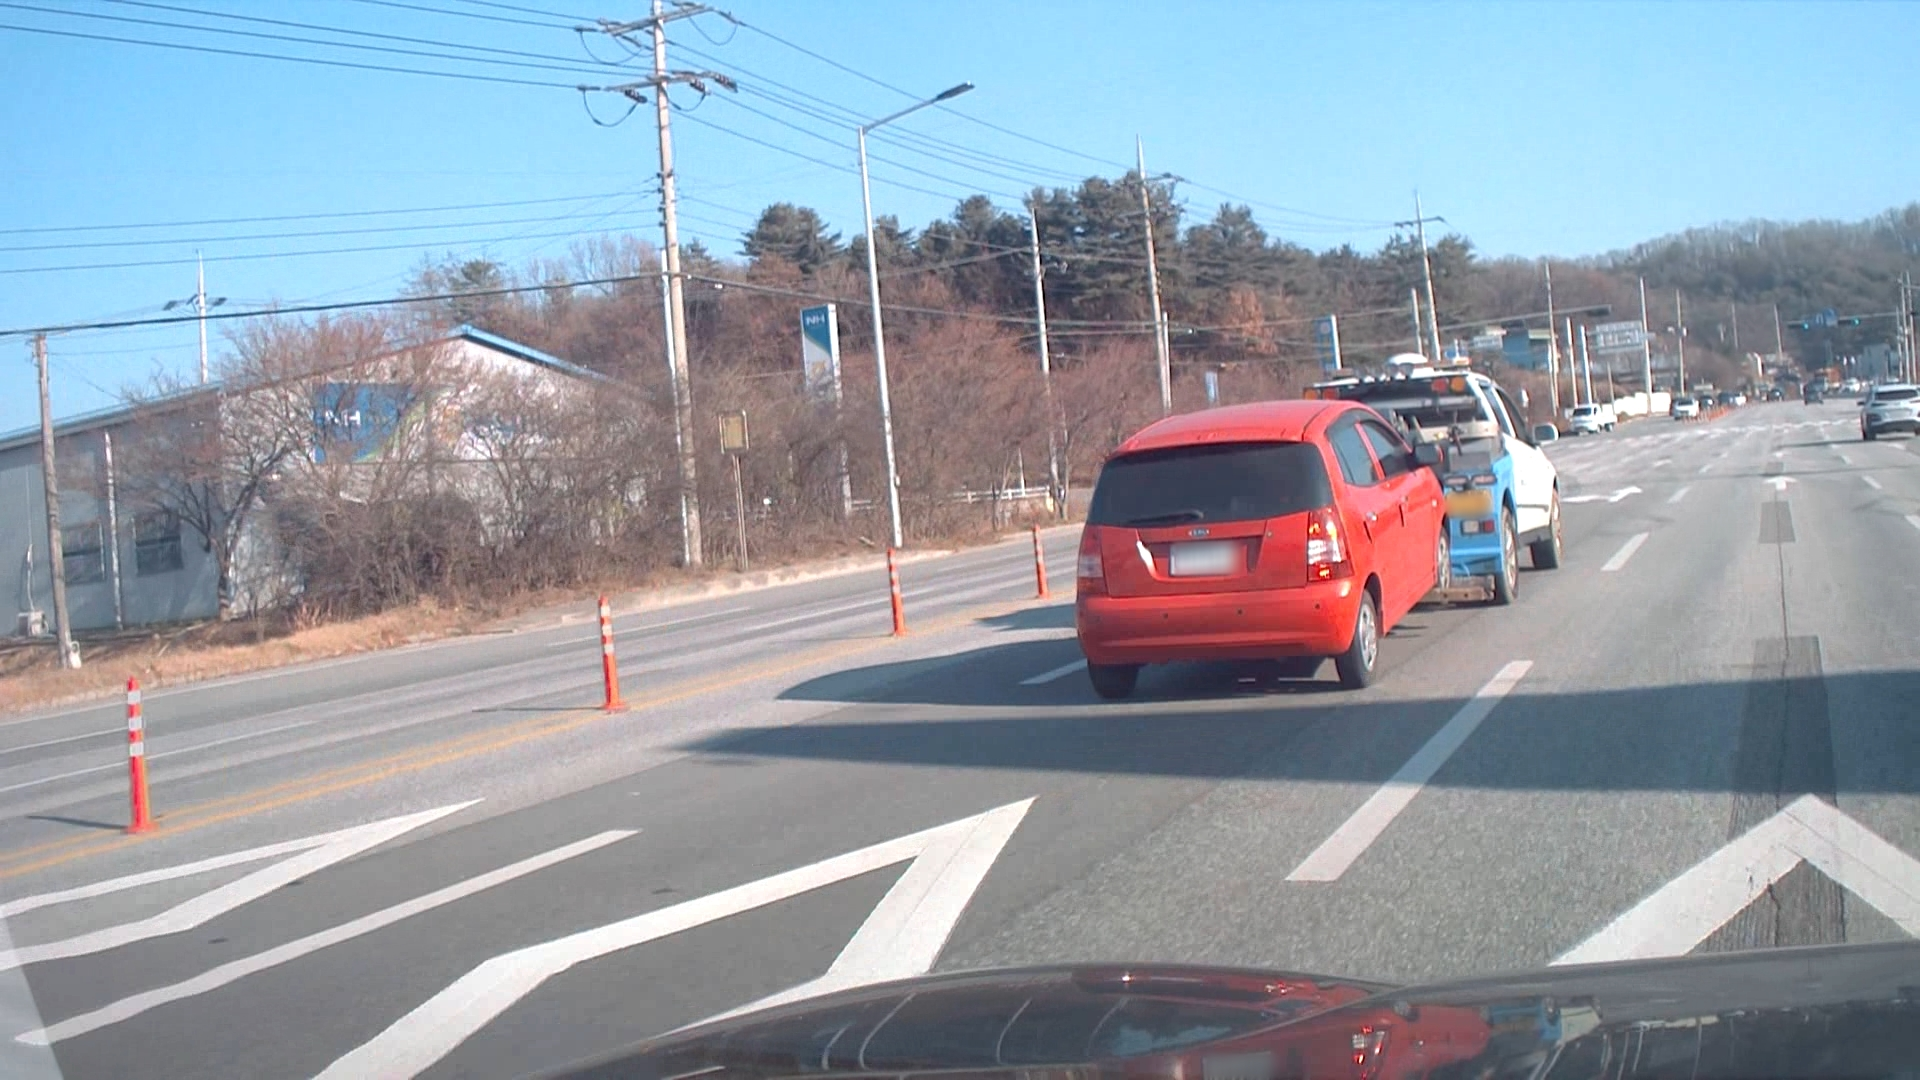trafficLight: (1778, 319, 1869, 332)
